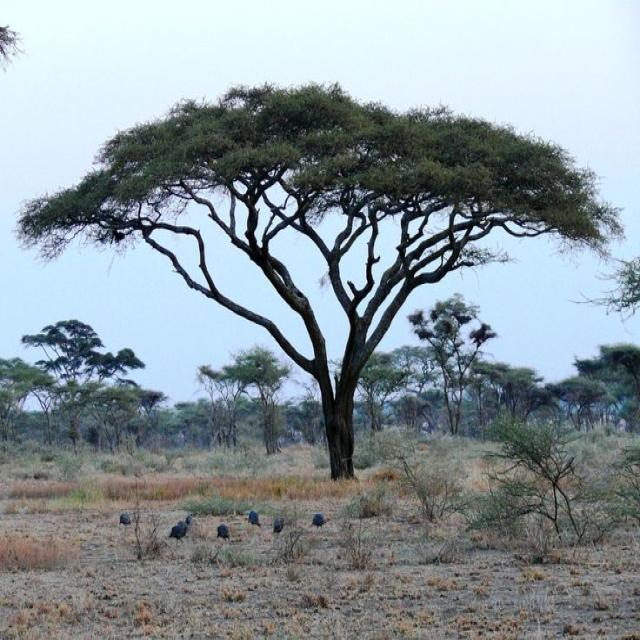Acacia: (22, 96, 606, 484)
